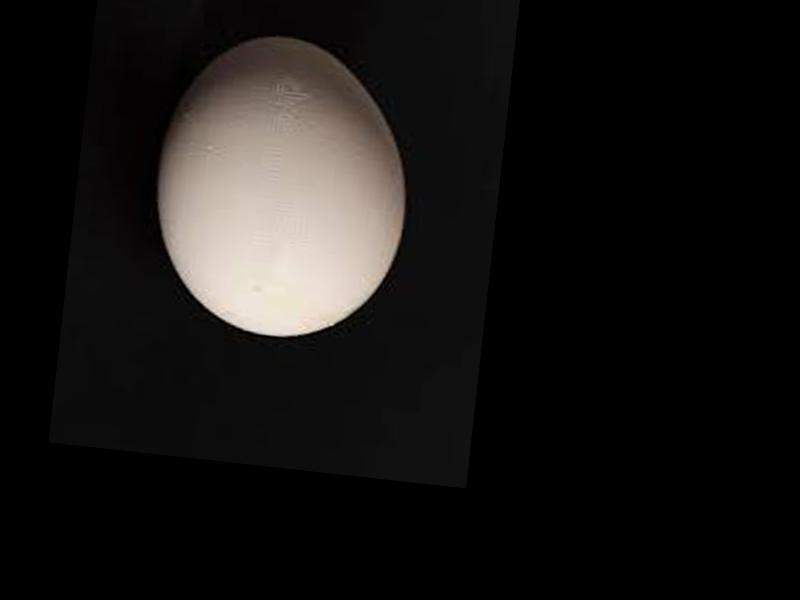Eggs: (144, 26, 421, 351)
